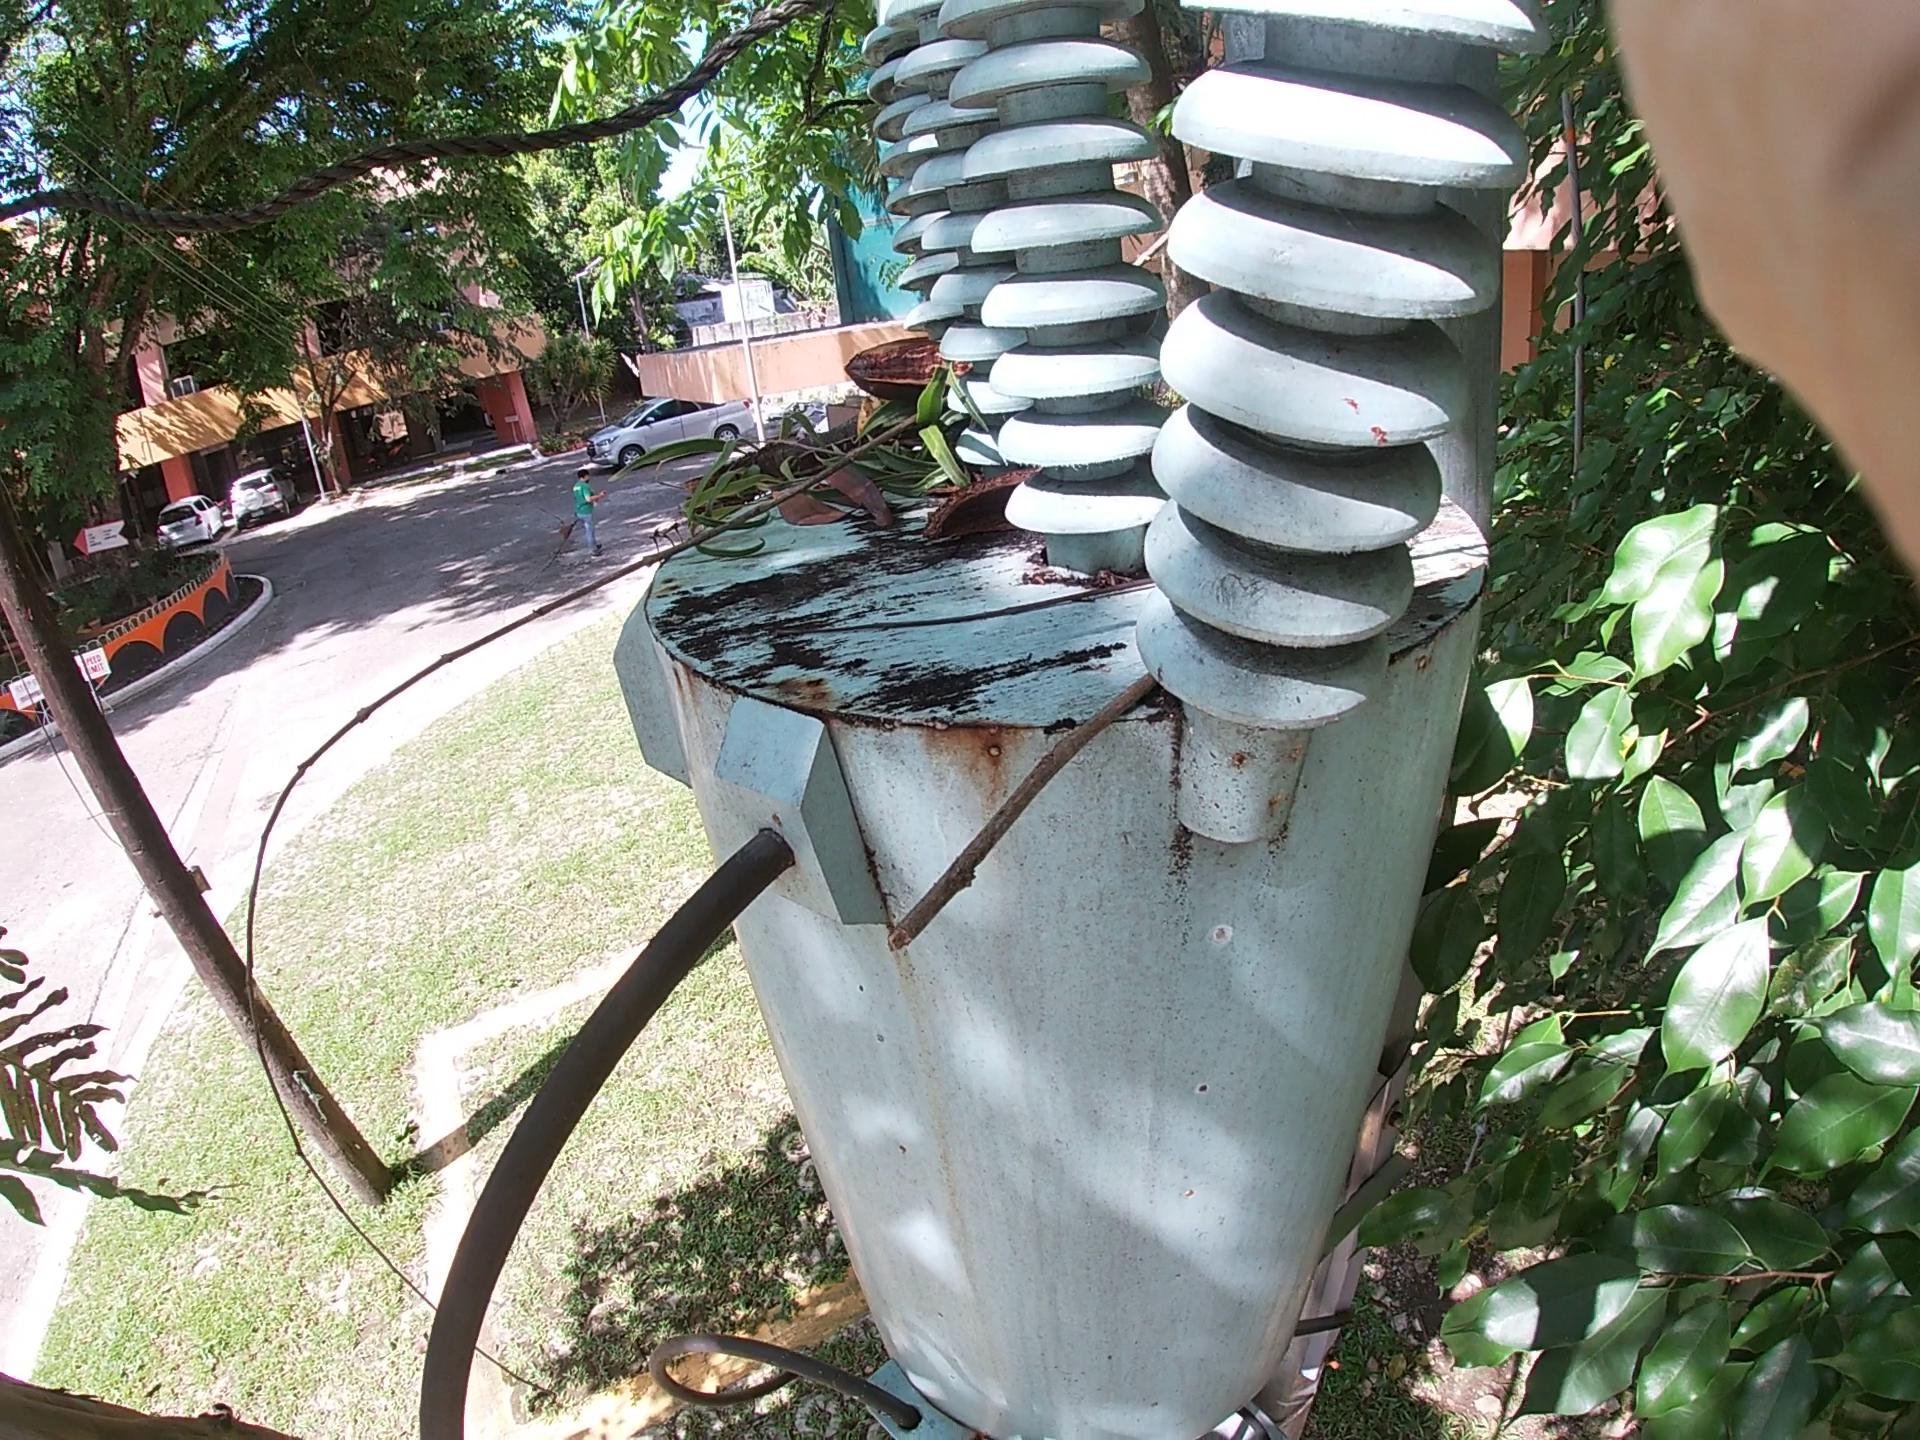branch with leaves: (760, 540, 1163, 658)
leaf: (773, 449, 962, 549)
mahogany fruit: (765, 296, 1076, 427), (934, 440, 1039, 549)
tree branch: (850, 617, 1101, 971), (1054, 542, 1843, 594)
